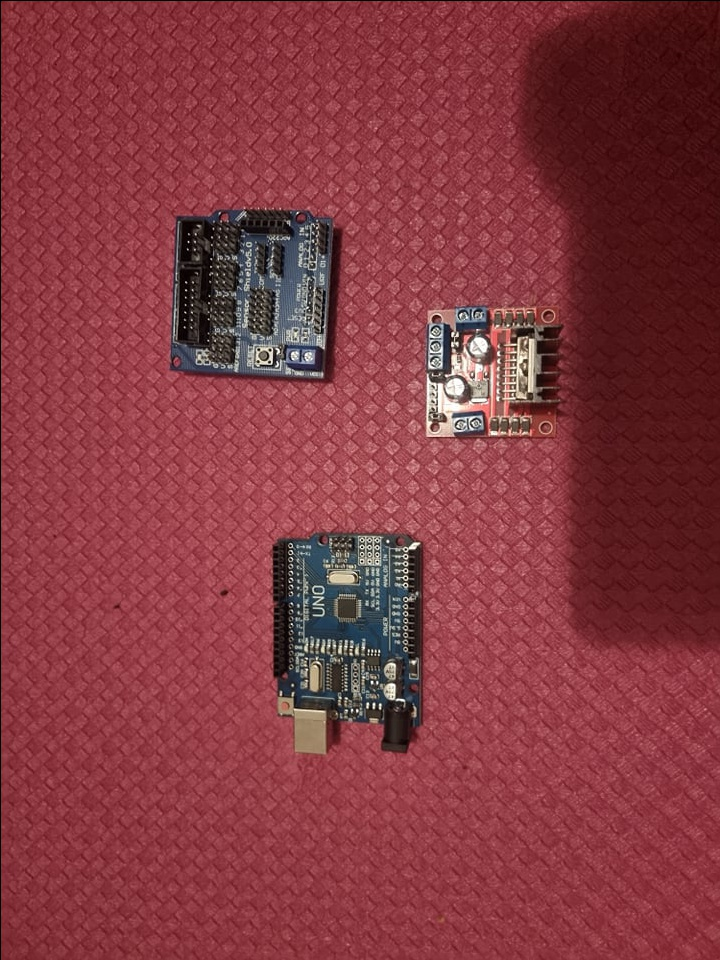5V EXPANSION: (172, 205, 338, 382)
MOTOR: (428, 303, 562, 441)
UNO R3: (266, 529, 425, 758)
